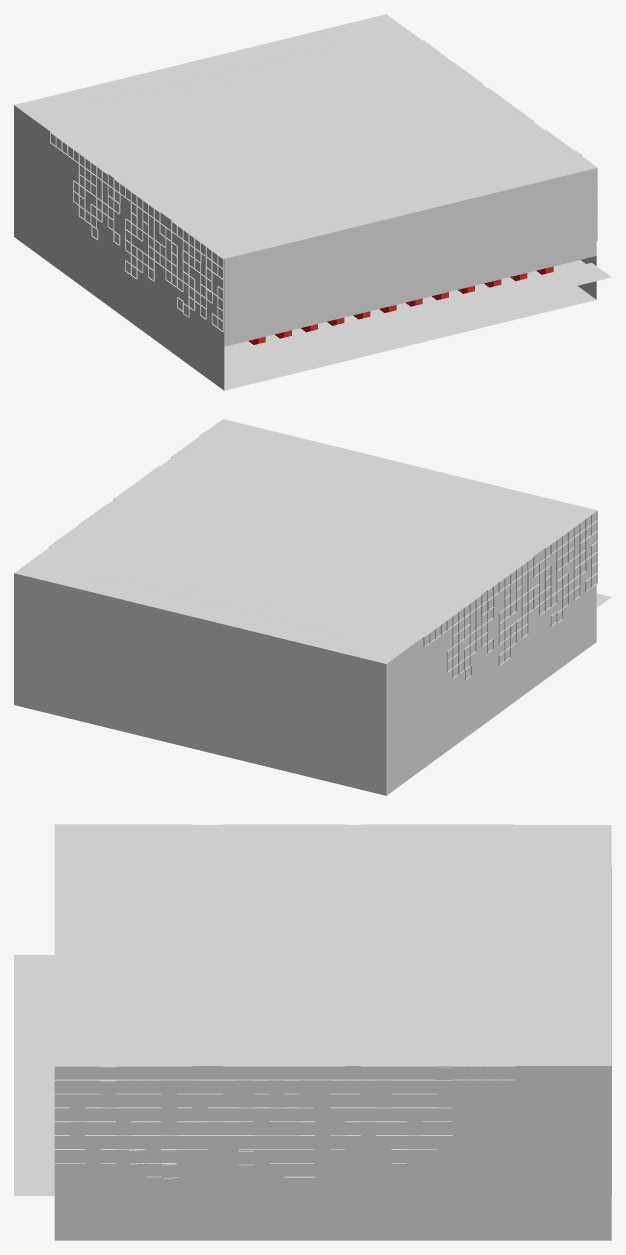
File: URBN ANNEX.fbx
The picture shows the model from 3 angles, top to bottom: view 1: azimuth 30°, elevation 25°; view 2: azimuth 150°, elevation 25°; view 3: azimuth 270°, elevation 25°; orthographic projection. The views are drawn at different scales.
Parts seen in each view (by area): view 1: Walls, Steps, ChairSides; view 2: Walls; view 3: Walls, Steps.
Part boxes in pixels (x1,y1,x2,y2): Walls: (14,14,597,390); Steps: (224,260,611,368); ChairSides: (248,266,553,344); Walls: (14,419,597,795); Walls: (54,824,611,1240); Steps: (14,955,54,1195).
Size of the model in its own units: 3511 by 1178 by 3649.
